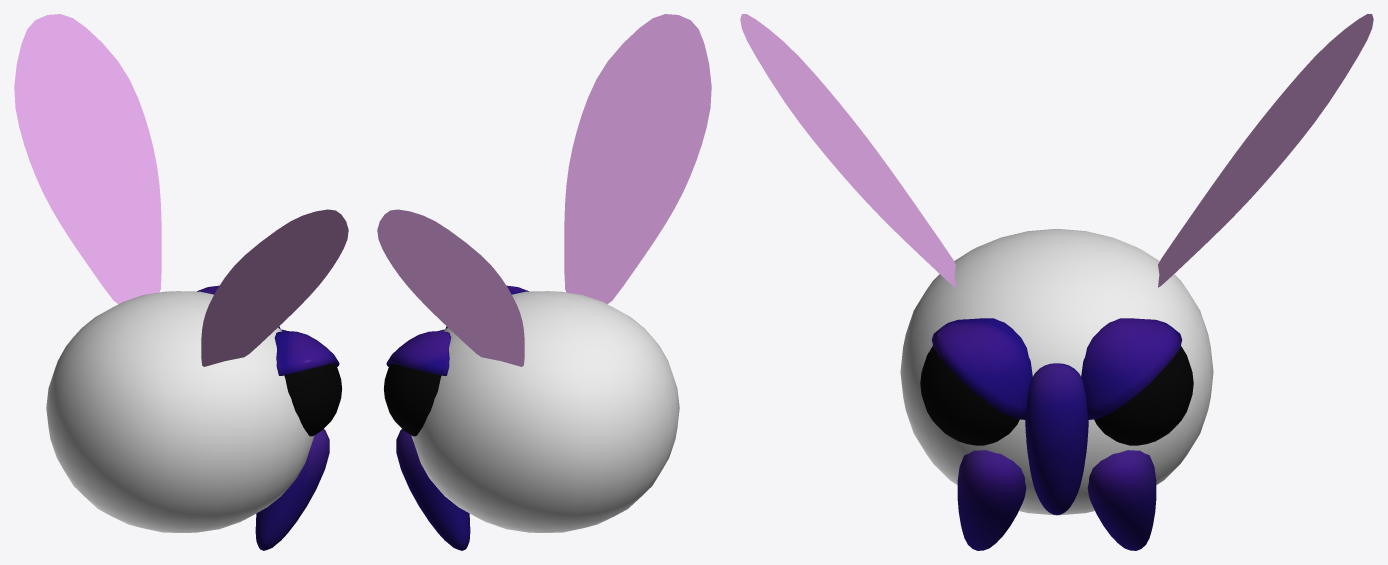
Rendered from goo_gorger-Rig1.fbx.
3 views of the same model, side by side, from view 1: azimuth 30°, elevation 25°; view 2: azimuth 150°, elevation 25°; view 3: azimuth 270°, elevation 25° (orthographic). The views are drawn at different scales.
Visible parts, largest first — view 1: Goo_Gorger; view 2: Goo_Gorger; view 3: Goo_Gorger.
Boxes of the visible parts, x1,y1,x2,y2 form: Goo_Gorger: (14,14,348,550); Goo_Gorger: (377,14,711,550); Goo_Gorger: (740,14,1373,550).
Bounding box in the file's own units: 1.8 × 2.97 × 3.4.
Materials: 6 (3 with a texture image).
